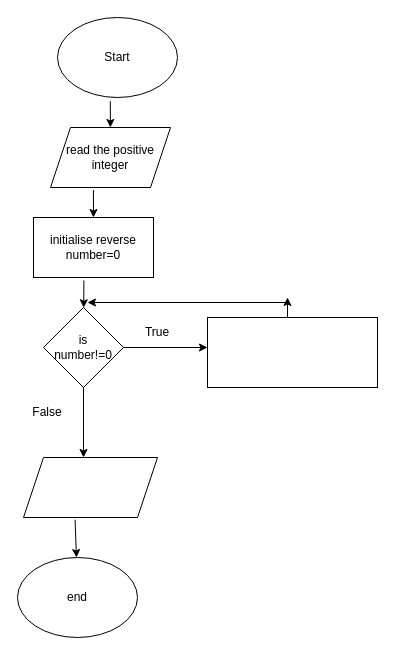
Some shapes in this 395 by 655 pixel diagram are drawn without their labels. The shapes that lost their labels are listed below. From the top down, each one's centre as x and y in pixels, then its label:
pixel 292 352: --digit=number%10 --reverse number=(reverse number*10)+digit --number=number/10
pixel 90 487: print reverse number
